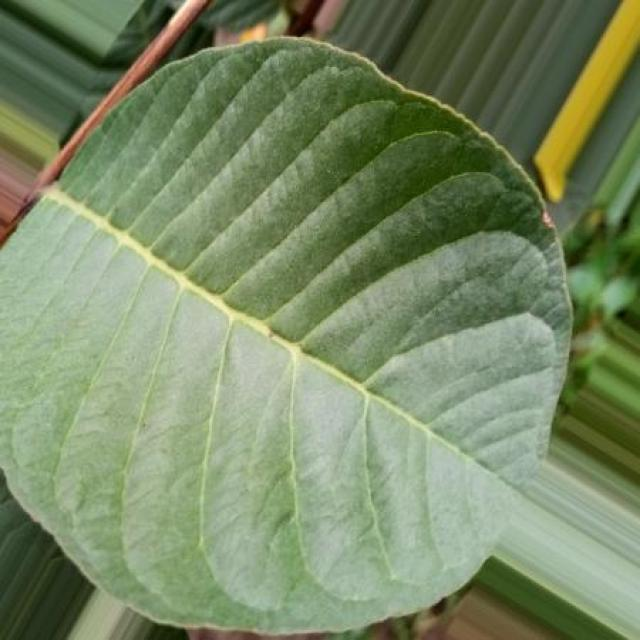Disease Free: (0, 39, 570, 631)
